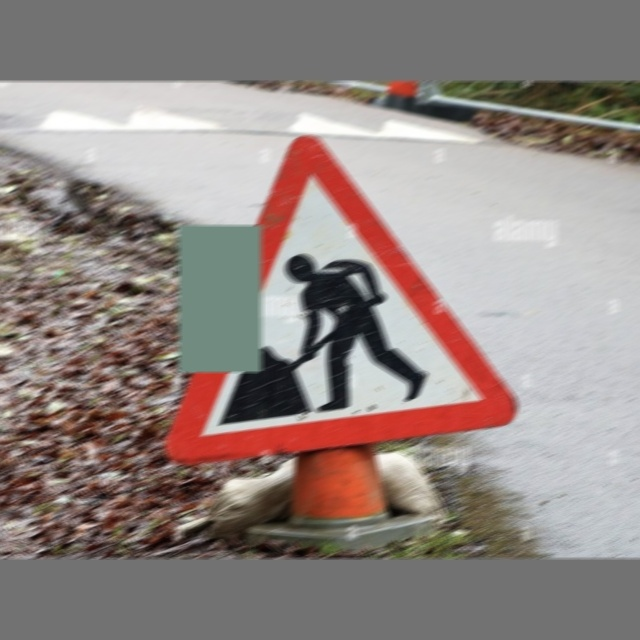Men_at_Work: (168, 140, 530, 455)
